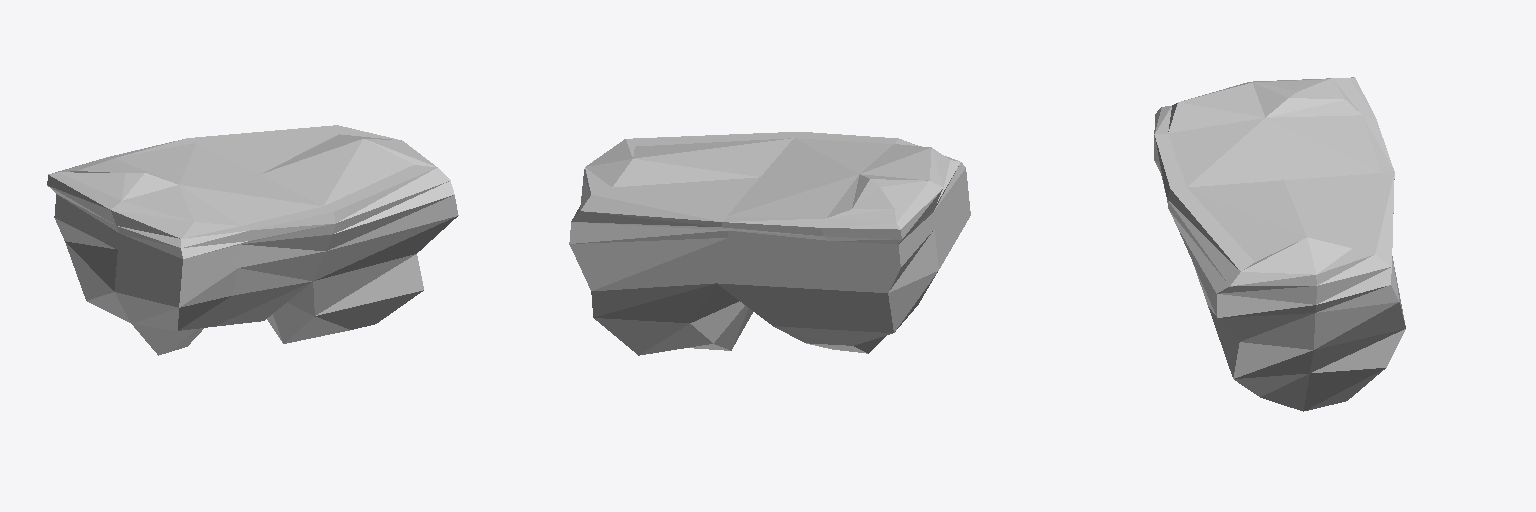
File: ice_plateform.obj
3 views of the same model, side by side, from view 1: azimuth 30°, elevation 25°; view 2: azimuth 150°, elevation 25°; view 3: azimuth 270°, elevation 25° (orthographic).
Visible parts, largest first — view 1: Object_5.001; view 2: Object_5.001; view 3: Object_5.001.
Boxes of the visible parts, x1=… form: Object_5.001: x1=47, y1=125, x2=458, y2=355; Object_5.001: x1=569, y1=132, x2=970, y2=355; Object_5.001: x1=1154, y1=77, x2=1405, y2=411.
Bounding box in the file's own units: 23.44 × 13.87 × 14.94.